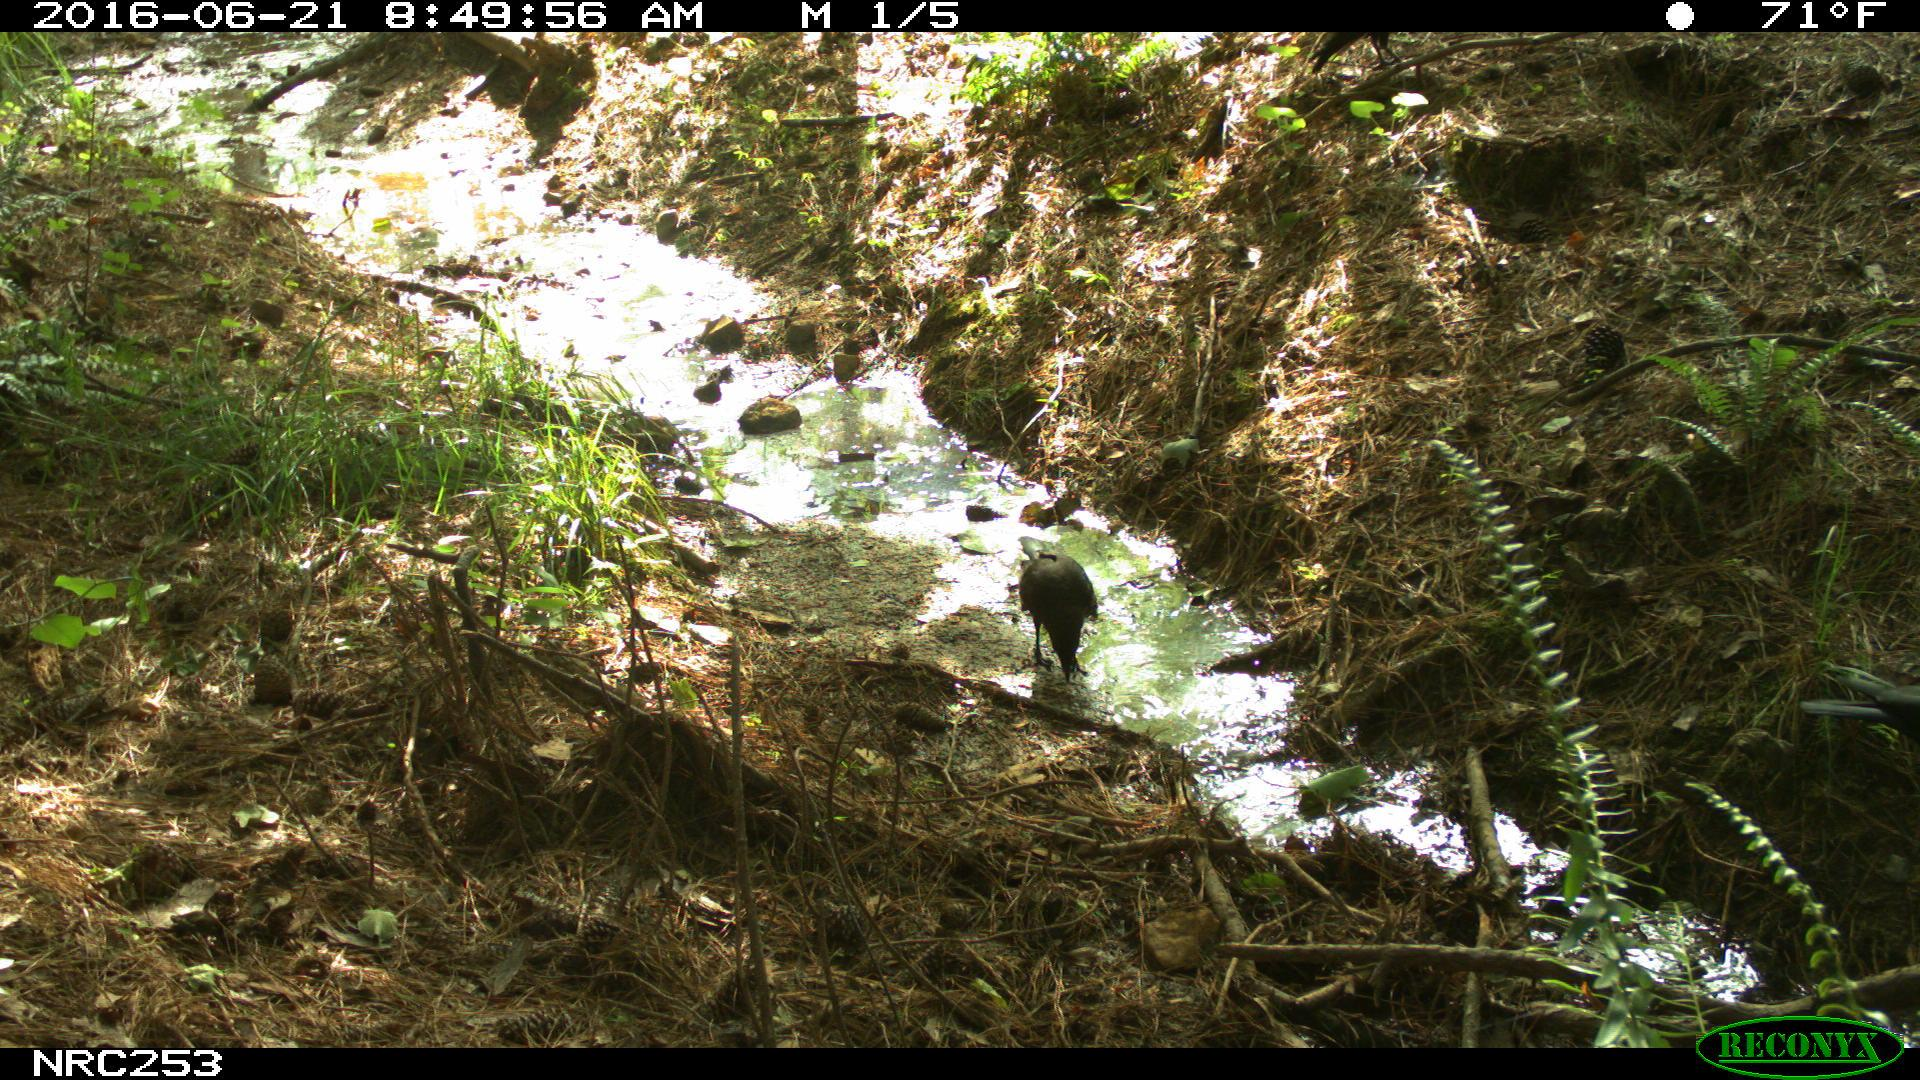Animal: (1015, 554, 1096, 679)
